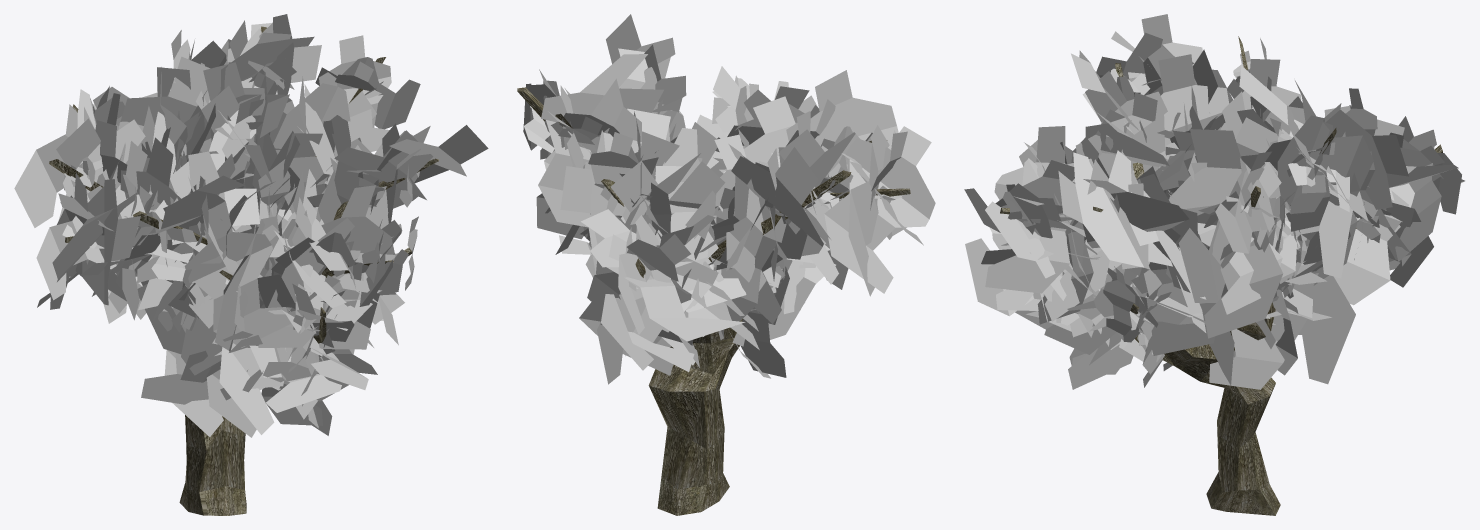
File: Arbol_05.fbx
The picture shows the model from 3 angles, left to right: view 1: azimuth 30°, elevation 25°; view 2: azimuth 150°, elevation 25°; view 3: azimuth 270°, elevation 25°; orthographic projection. The views are drawn at different scales.
Visible parts, largest first — view 1: Tree_Cañada01.004; view 2: Tree_Cañada01.004; view 3: Tree_Cañada01.004.
Part boxes in pixels (x1,y1,x2,y2): Tree_Cañada01.004: (14,14,488,515); Tree_Cañada01.004: (517,14,935,515); Tree_Cañada01.004: (964,14,1464,515).
Size of the model in its own units: 28.93 by 32.04 by 31.4.
